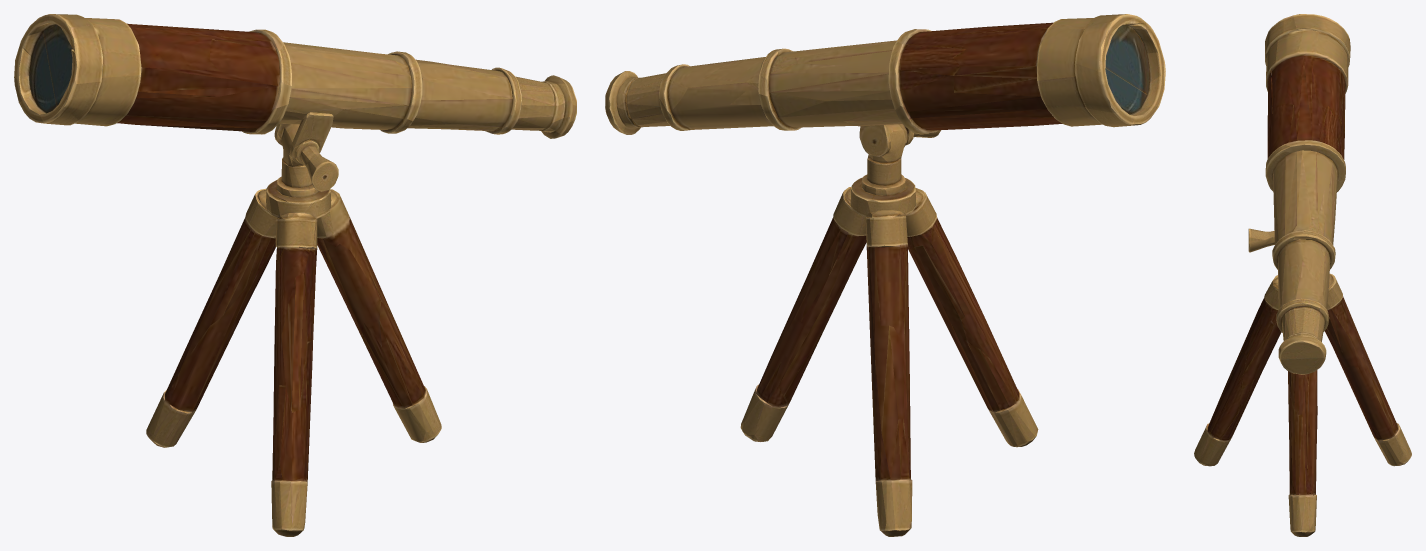
The model's file is telescope.glb.
The picture shows the model from 3 angles, left to right: view 1: azimuth 30°, elevation 25°; view 2: azimuth 150°, elevation 25°; view 3: azimuth 270°, elevation 25°; orthographic projection. The views are drawn at different scales.
Parts seen in each view (by area): view 1: output_unwrapped; view 2: output_unwrapped; view 3: output_unwrapped.
Boxes of the visible parts, x1,y1,x2,y2 form: output_unwrapped: (14, 14, 576, 536); output_unwrapped: (605, 14, 1165, 536); output_unwrapped: (1194, 14, 1411, 536).
Bounding box in the file's own units: 1.9 × 1.74 × 0.879.
1 material, 1 textured.
